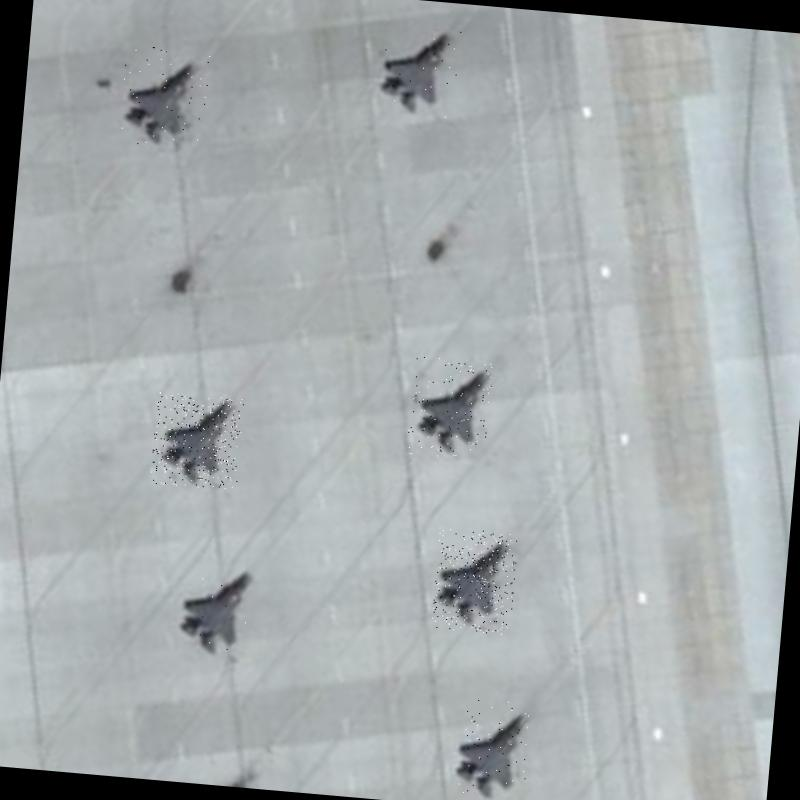A13: (118, 44, 210, 150), (431, 527, 519, 635), (371, 16, 463, 118), (150, 392, 244, 491), (407, 355, 493, 461), (175, 556, 257, 660), (452, 698, 532, 800)
